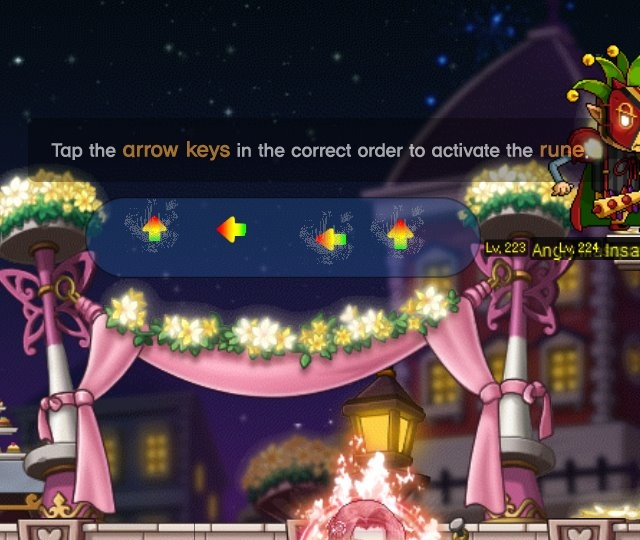left: (306, 219, 354, 260), (210, 214, 257, 250)
up: (378, 212, 417, 258), (136, 212, 177, 252)
